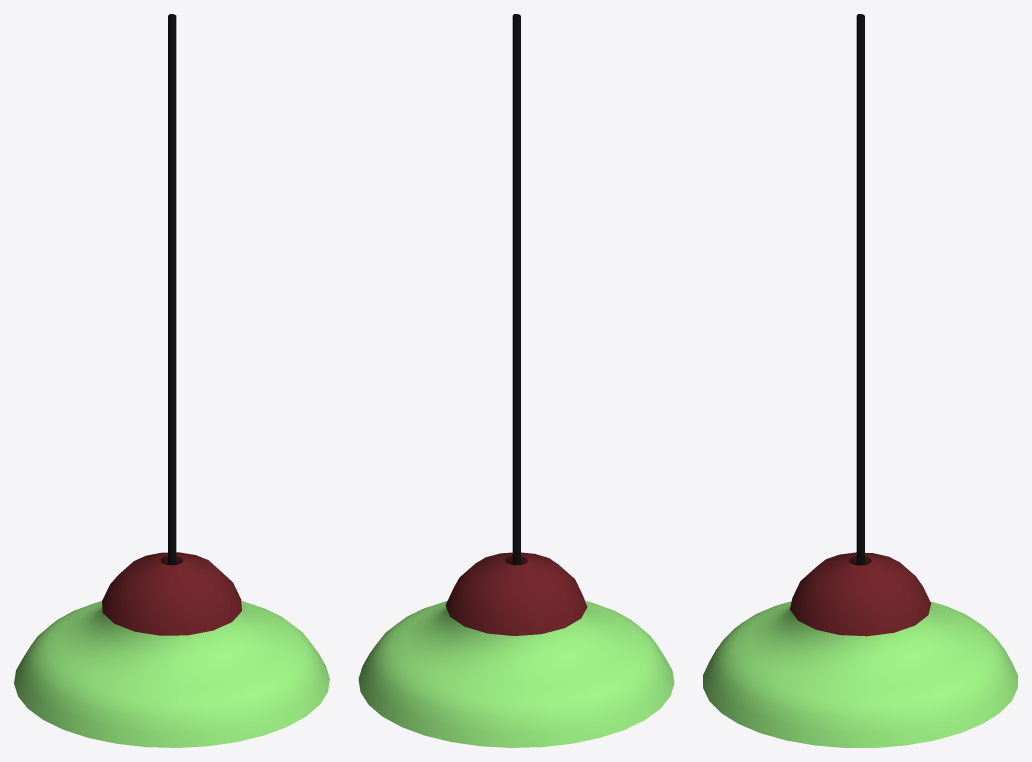
File: CeilingLamp_nib_v01.fbx
3 views of the same model, side by side, from view 1: azimuth 30°, elevation 25°; view 2: azimuth 150°, elevation 25°; view 3: azimuth 270°, elevation 25° (orthographic).
Parts seen in each view (by area): view 1: Cone, Cone.001, Cylinder; view 2: Cone, Cone.001, Cylinder; view 3: Cone, Cone.001, Cylinder.
Part boxes in pixels (box(x1,y1,x2,y2)): Cone: box(14, 601, 329, 747); Cone.001: box(102, 552, 241, 635); Cylinder: box(168, 14, 176, 565); Cone: box(358, 601, 674, 747); Cone.001: box(445, 552, 587, 635); Cylinder: box(512, 14, 520, 565); Cone: box(703, 601, 1017, 747); Cone.001: box(790, 552, 930, 636); Cylinder: box(856, 14, 864, 565).
Size of the model in its own units: 875 by 2146 by 875.
